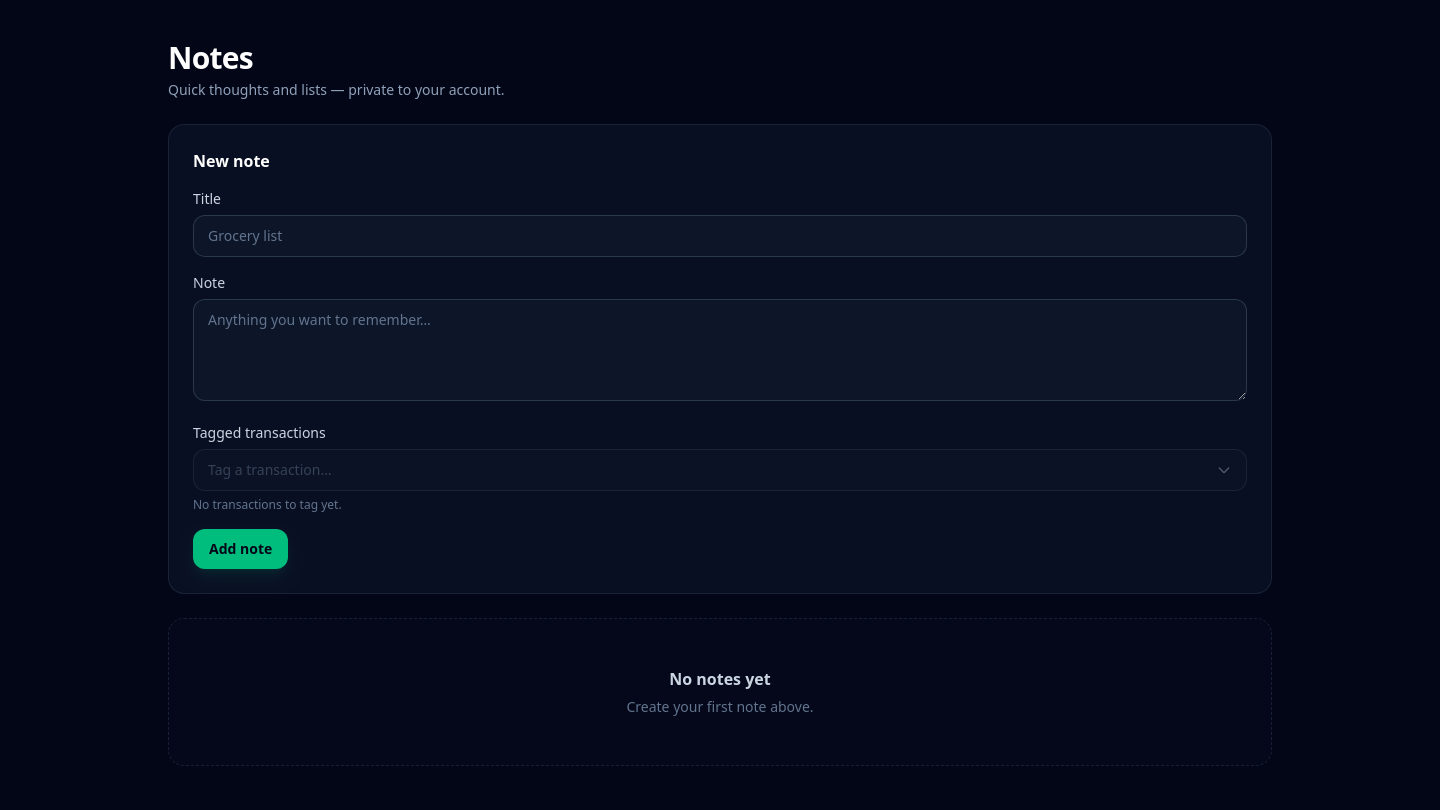
Test case: NotesPage › creates a note and appends it to the list
expect the text "No notes yet" is shown: met, box [669,668,771,690]
In the field labelled "Title": (720, 236) [193,215,1247,257], type "Weekend plans"
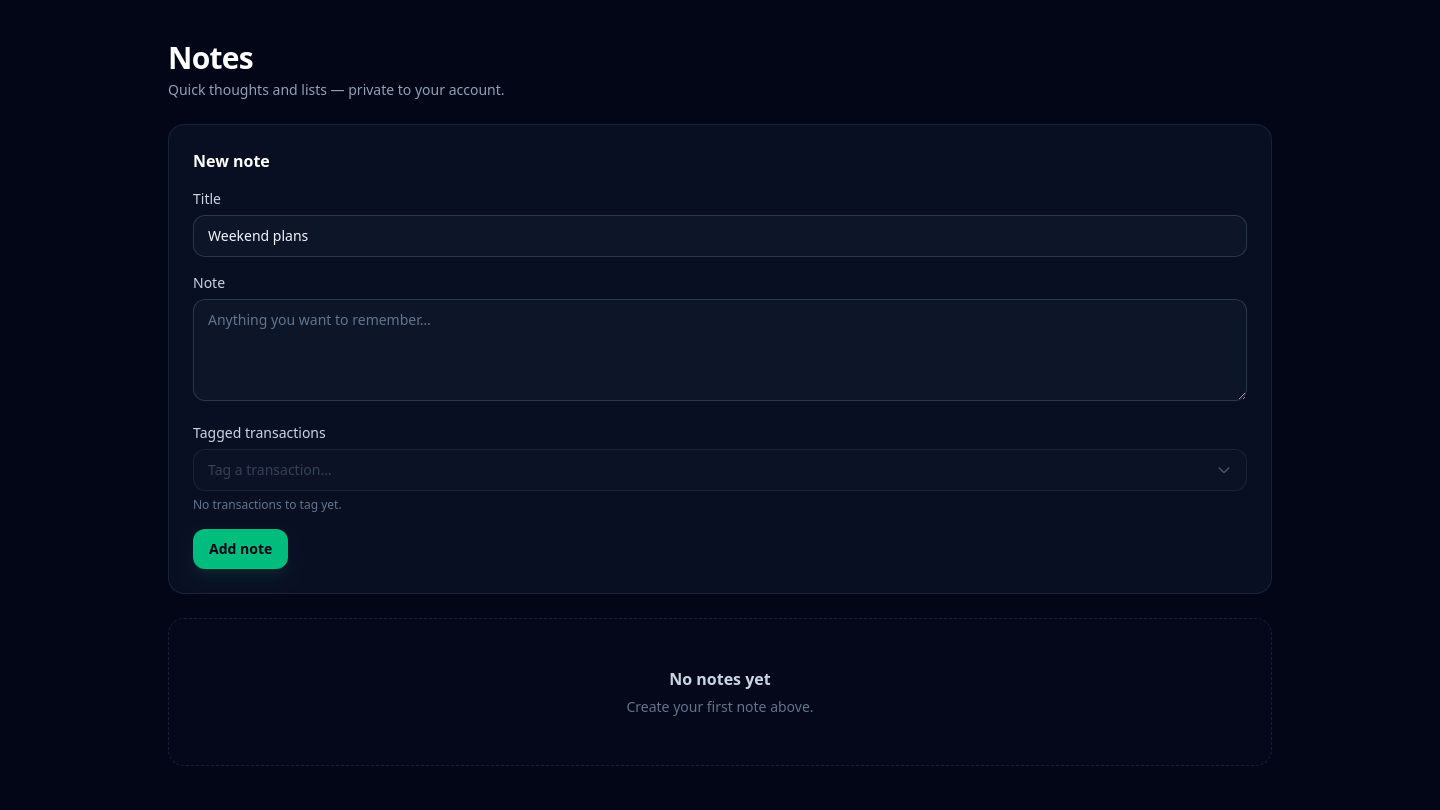
Click the button "Add note": click(241, 549) [193,529,288,569]
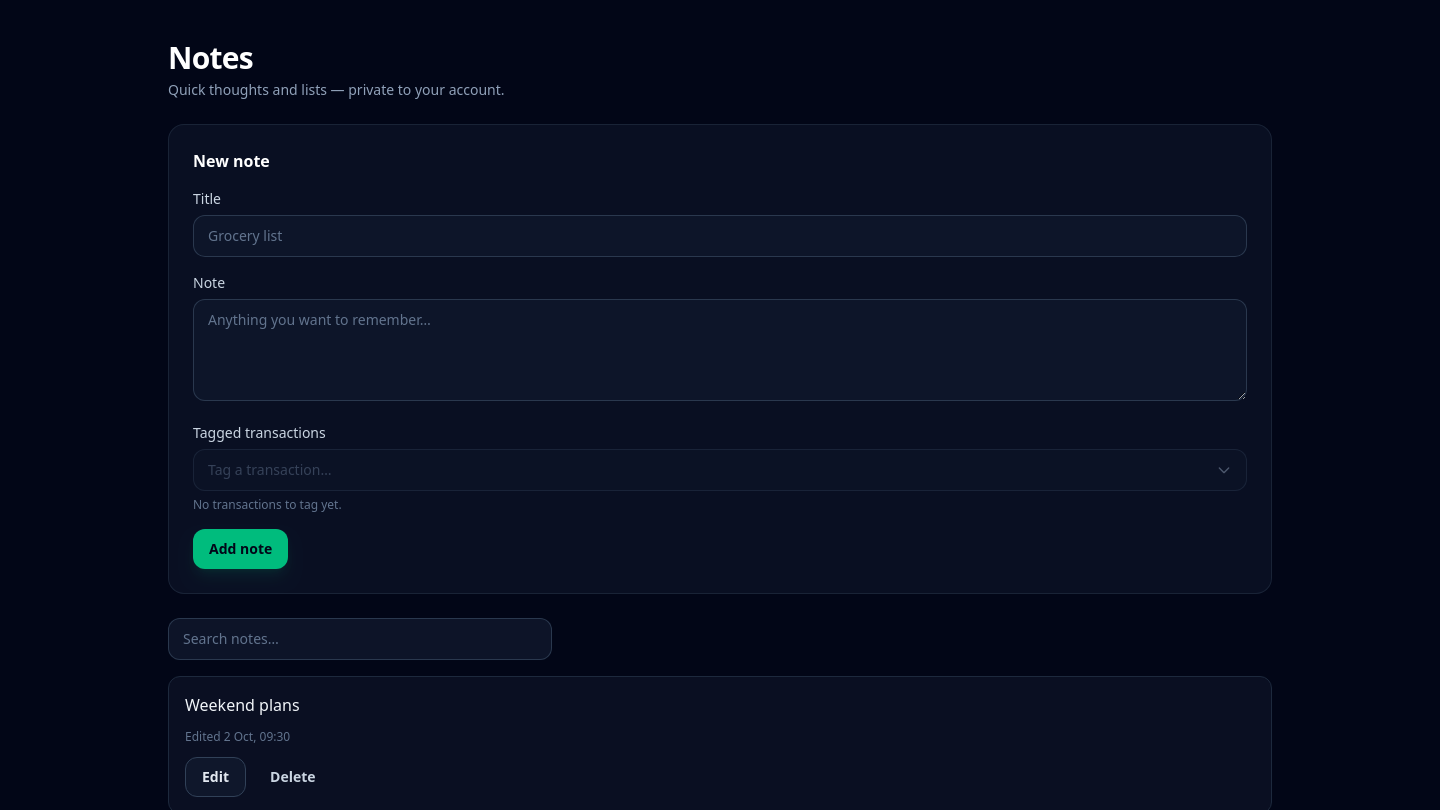
expect the heading "Weekend plans" is shown: met, box [185,694,300,716]
